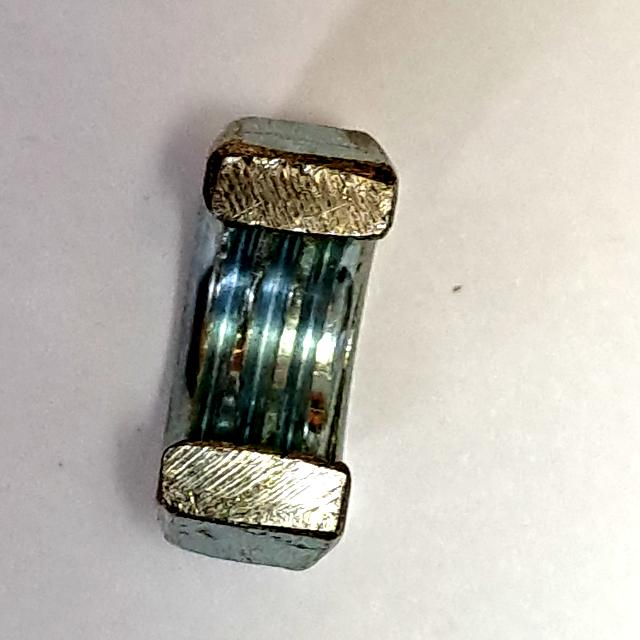Side-Fracture: (138, 104, 410, 581)
